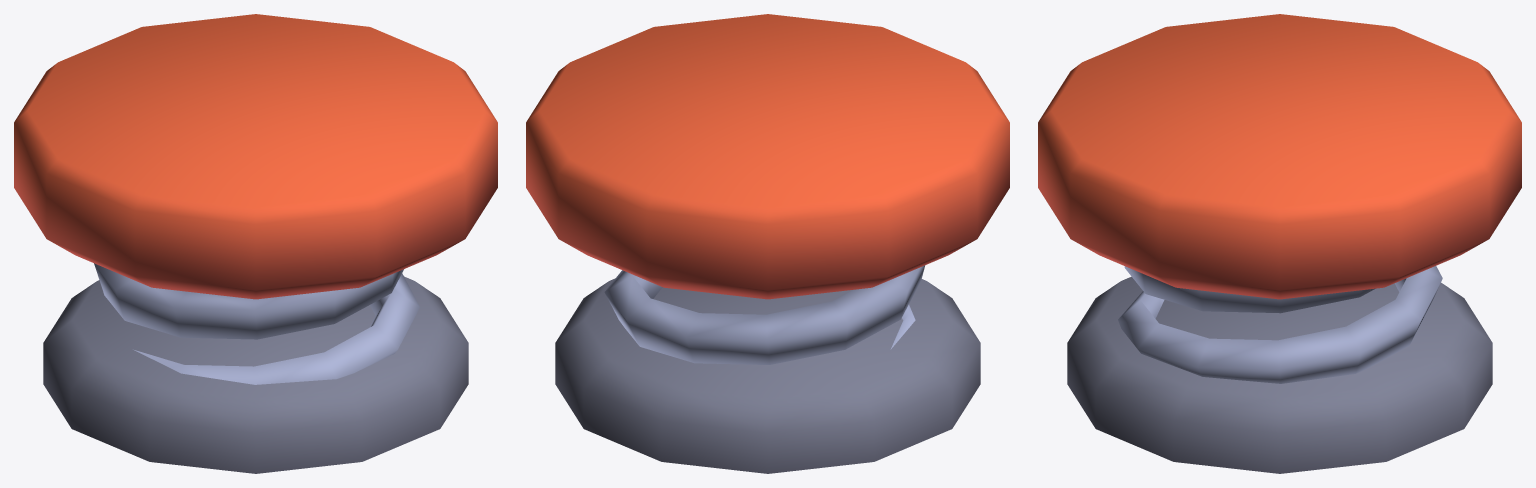
File: spring.glb
The picture shows the model from 3 angles, left to right: view 1: azimuth 30°, elevation 25°; view 2: azimuth 150°, elevation 25°; view 3: azimuth 270°, elevation 25°; orthographic projection.
Parts seen in each view (by area): view 1: platform, spring (×2); view 2: platform, spring (×2); view 3: platform, spring (×2).
Boxes of the visible parts, x1,y1,x2,y2 form: platform: (14, 14, 497, 299); spring (×2): (43, 263, 468, 473); platform: (526, 14, 1009, 299); spring (×2): (555, 265, 980, 473); platform: (1038, 14, 1521, 299); spring (×2): (1067, 266, 1492, 473).
Bounding box in the file's own units: 0.75 × 0.4679 × 0.75.
1 material, 1 textured.
